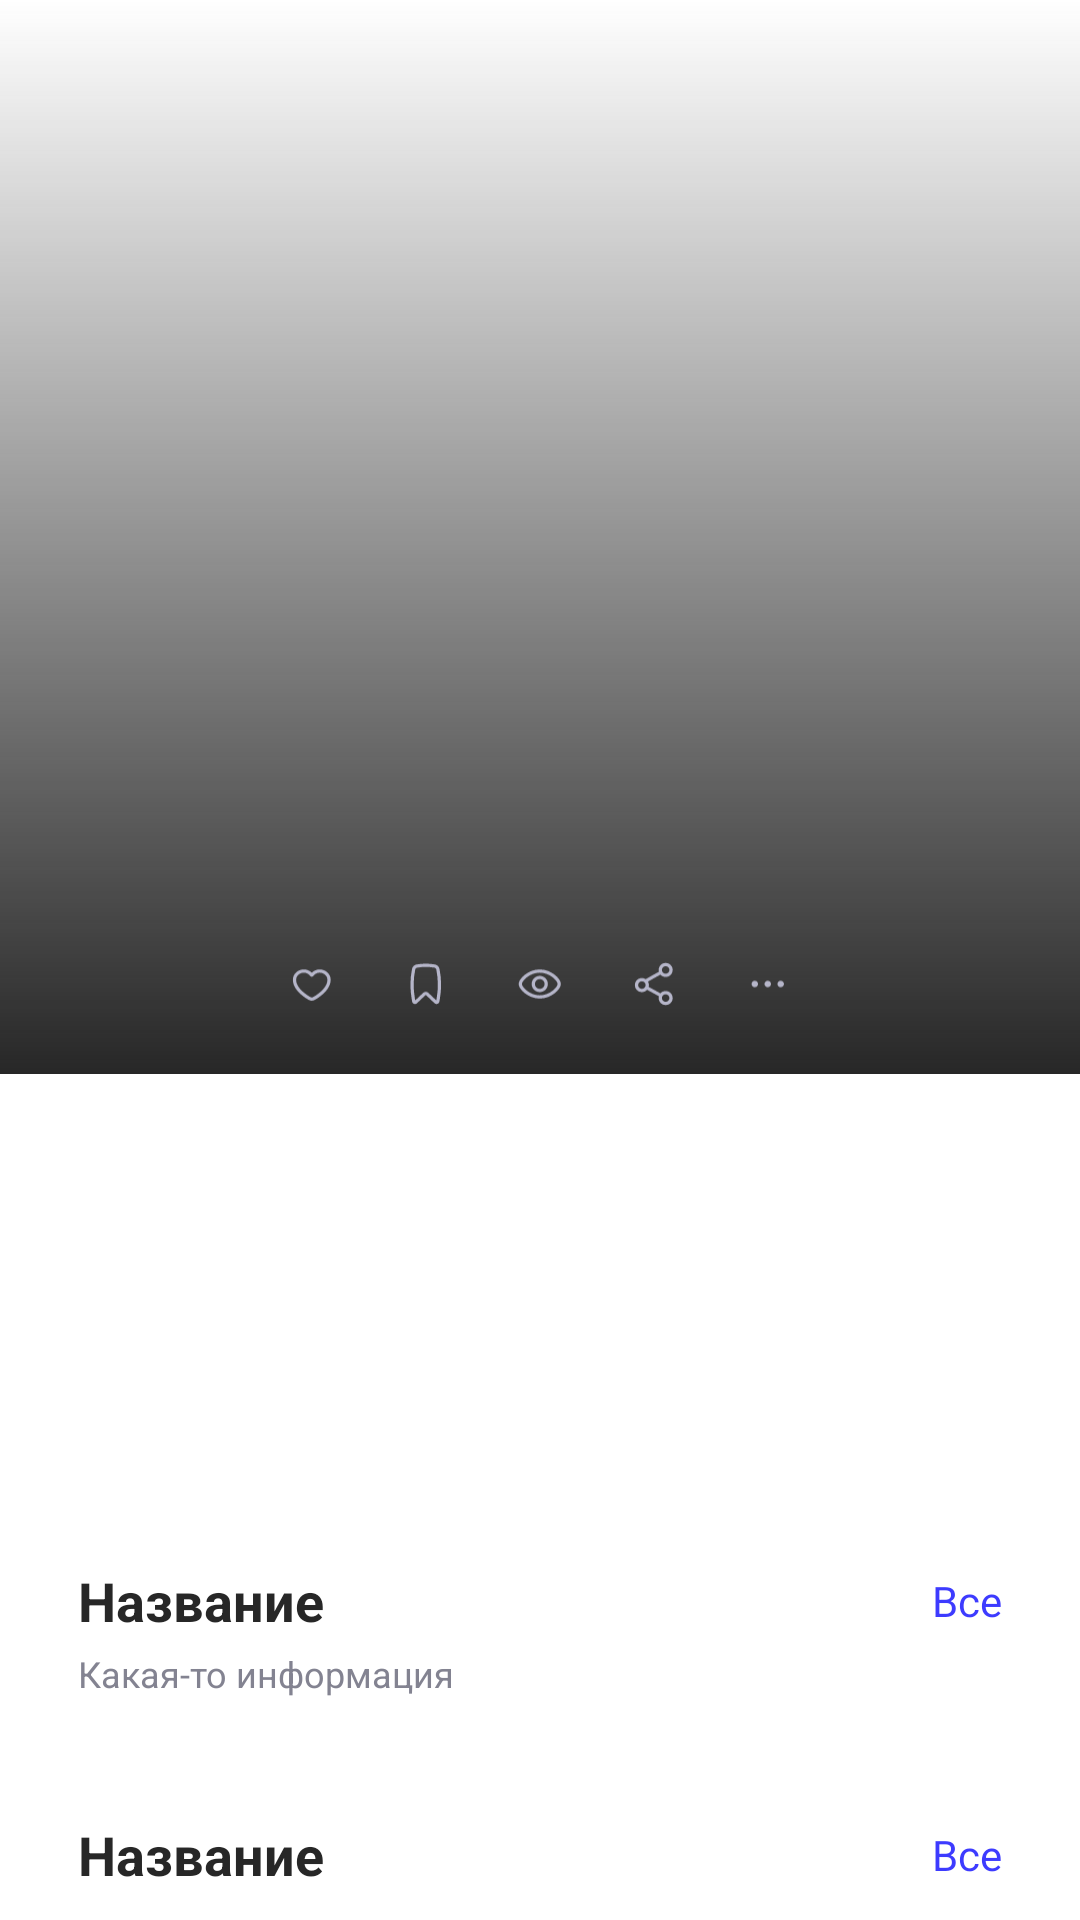

Icon click points for this 1080 × 1920 phone screenshot, format [x,y]:
bookmark: [425,983]
eye: [539,984]
heart: [312,985]
other: [767,984]
share: [654,984]
